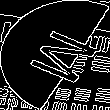M_SE: (12, 23, 98, 87)
